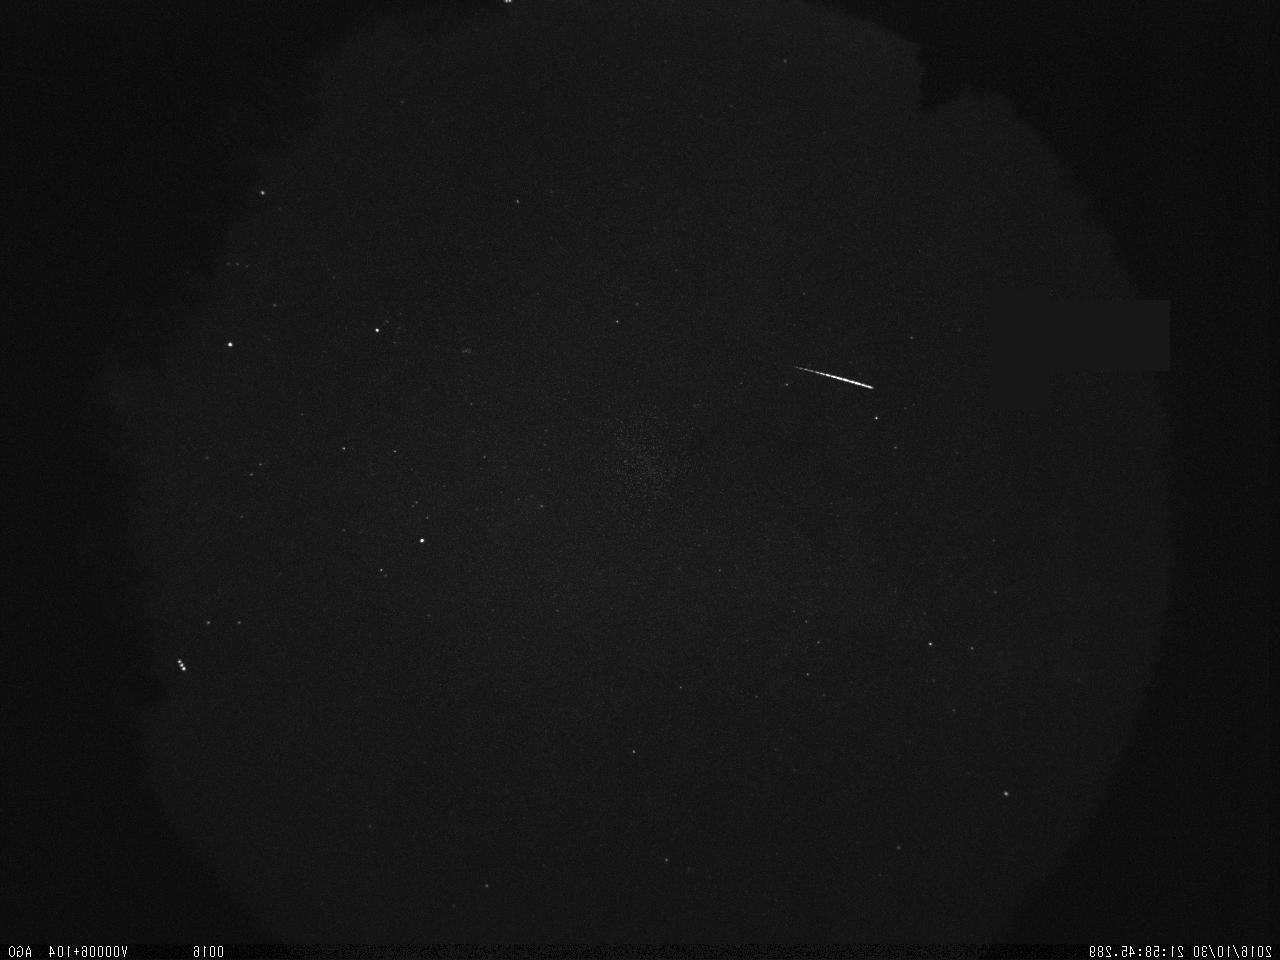meteor: (779, 350, 887, 402)
